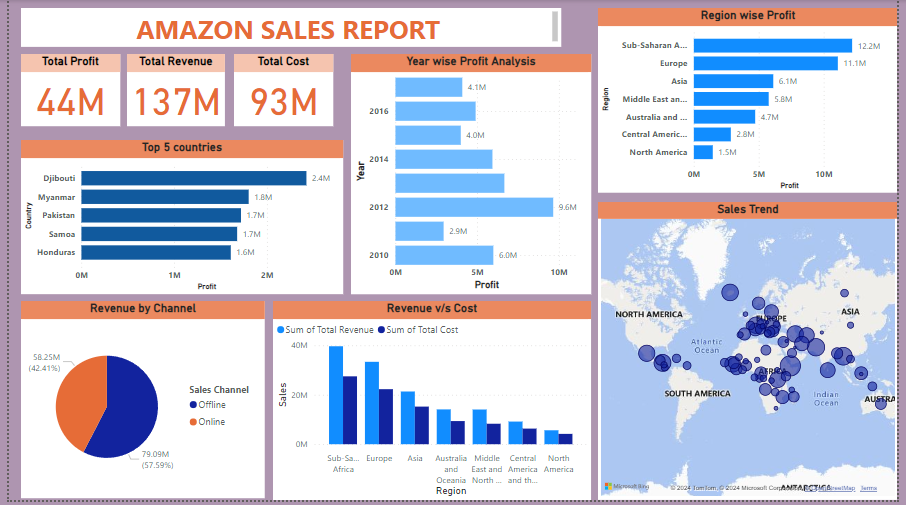

Layout of this report page (visuals, bound fields, positions):
{"tool":"powerbi","page":{"name":"Page 1","canvas":[1280,720],"ordinal":0},"visuals":[{"type":"clusteredBarChart","title":"Region wise Profit","fields":{"Category":["Amazon Sales data.Region"],"Y":["Sum(Amazon Sales data.Total Profit)"]},"box":[848.2,11.5,432,266.4],"z":0},{"type":"clusteredBarChart","title":"Year wise Profit Analysis","fields":{"Y":["Sum(Amazon Sales data.Total Profit)"],"Category":["Amazon Sales data.Ship Date.Variation.Date Hierarchy.Year"]},"box":[492.5,77.8,345.6,345.6],"z":1000},{"type":"map","title":"Sales Trend","fields":{"Category":["Amazon Sales data.Country"],"Size":["Sum(Amazon Sales data.Total Profit)"]},"box":[848.2,290.9,432,429.1],"z":2000},{"type":"pieChart","title":"Revenue by Channel","fields":{"Category":["Amazon Sales data.Sales Channel"],"Y":["Sum(Amazon Sales data.Total Revenue)"]},"box":[17.3,433.4,351.4,283.7],"z":3000},{"type":"lineClusteredColumnComboChart","title":"Revenue v/s Cost","fields":{"Category":["Amazon Sales data.Region"],"Y":["Sum(Amazon Sales data.Total Revenue)","Sum(Amazon Sales data.Total Cost)"]},"box":[380.2,433.4,457.9,286.6],"z":4000},{"type":"clusteredBarChart","title":"Top 5 countries","fields":{"Y":["Sum(Amazon Sales data.Total Profit)"],"Category":["Amazon Sales data.Country"]},"box":[17.3,201.6,463.7,221.8],"z":5000},{"type":"textbox","box":[17.3,11.5,777.6,56.2],"z":6000},{"type":"card","title":"Total Profit","fields":{"Values":["Sum(Amazon Sales data.Total Profit)"]},"box":[17.3,77.8,142.6,103.7],"z":7000},{"type":"card","title":"Total Revenue","fields":{"Values":["Sum(Amazon Sales data.Total Revenue)"]},"box":[169.9,77.8,141.1,103.7],"z":7001},{"type":"card","title":"Total Cost","fields":{"Values":["Sum(Amazon Sales data.Total Cost)"]},"box":[324,77.8,142.6,103.7],"z":7002}]}

Visuals, with their boxes in screenshot pixels (x1, y1, x2, y2), scaled from the page's 1280x720 canvas onto the 906x505 screenshot:
"Region wise Profit" clusteredBarChart: BBox(600, 8, 905, 195)
"Year wise Profit Analysis" clusteredBarChart: BBox(349, 55, 593, 297)
"Sales Trend" map: BBox(600, 204, 905, 504)
"Revenue by Channel" pieChart: BBox(12, 304, 261, 503)
"Revenue v/s Cost" lineClusteredColumnComboChart: BBox(269, 304, 593, 504)
"Top 5 countries" clusteredBarChart: BBox(12, 141, 340, 297)
textbox: BBox(12, 8, 563, 47)
"Total Profit" card: BBox(12, 55, 113, 127)
"Total Revenue" card: BBox(120, 55, 220, 127)
"Total Cost" card: BBox(229, 55, 330, 127)
